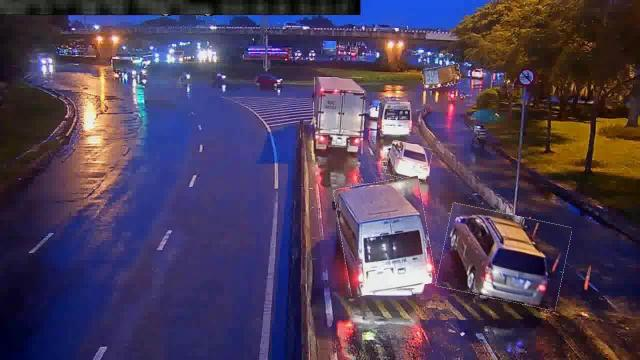Bus: (338, 178, 432, 294)
Car: (439, 209, 569, 306), (387, 142, 431, 182)
Truck: (314, 78, 362, 154), (422, 65, 462, 87)
